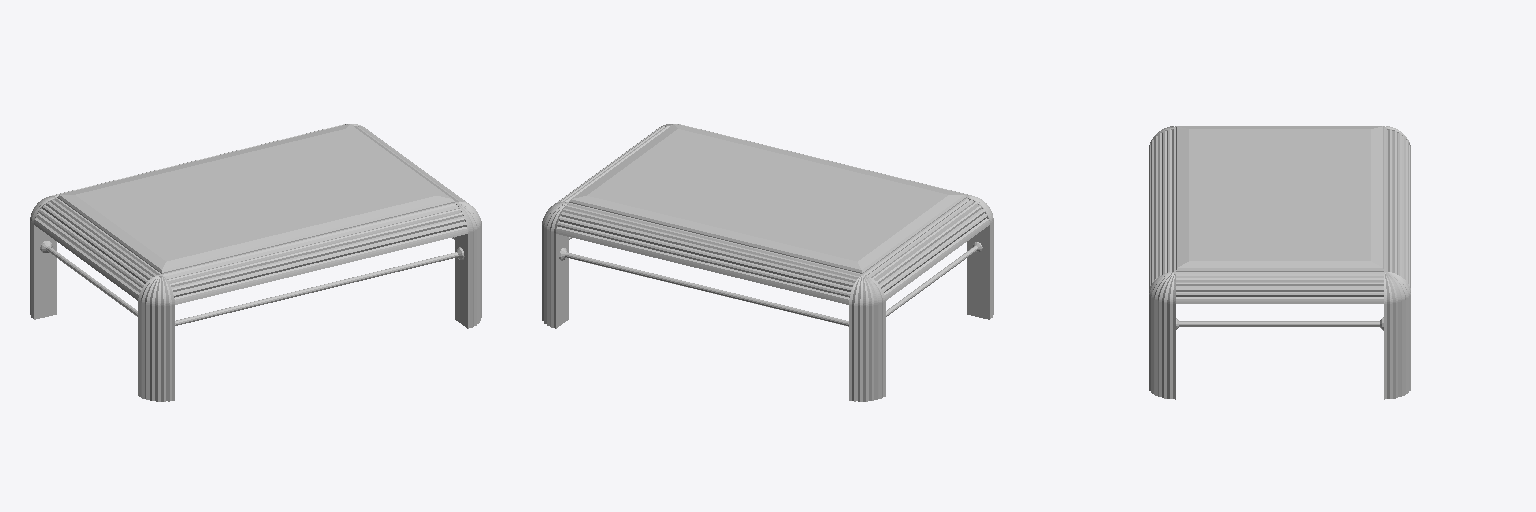
File: StylishDesk.obj
3 renders of one model, left to right at view 1: azimuth 30°, elevation 25°; view 2: azimuth 150°, elevation 25°; view 3: azimuth 270°, elevation 25°, orthographic.
Visible parts, largest first — view 1: Rectangle0, Arc04, Arc02, Line03, Line02, Line04, Cylinder04, Arc01, Cylinder02; view 2: Rectangle0, Arc03, Arc02, Line04, Line01, Line03, Cylinder03, Arc01, Cylinder02; view 3: Rectangle0, Arc01, Arc04, Arc03, Line01, Line02, Cylinder01.
Part boxes in pixels (bbox=[...]): Rectangle0: bbox=[57, 124, 454, 273]; Arc04: bbox=[162, 203, 467, 304]; Arc02: bbox=[34, 198, 160, 300]; Line03: bbox=[138, 274, 174, 401]; Line02: bbox=[455, 202, 481, 328]; Line04: bbox=[30, 196, 56, 319]; Cylinder04: bbox=[175, 247, 464, 325]; Arc01: bbox=[354, 126, 468, 203]; Cylinder02: bbox=[40, 241, 137, 316]; Rectangle0: bbox=[569, 124, 966, 273]; Arc03: bbox=[556, 203, 861, 304]; Arc02: bbox=[863, 198, 989, 300]; Line04: bbox=[849, 274, 885, 401]; Line01: bbox=[542, 202, 568, 328]; Line03: bbox=[967, 196, 993, 319]; Cylinder03: bbox=[559, 248, 848, 326]; Arc01: bbox=[555, 126, 669, 203]; Cylinder02: bbox=[886, 242, 982, 316]; Rectangle0: bbox=[1176, 126, 1383, 271]; Arc01: bbox=[1176, 272, 1383, 303]; Arc04: bbox=[1149, 129, 1175, 288]; Arc03: bbox=[1384, 129, 1410, 287]; Line01: bbox=[1384, 272, 1410, 399]; Line02: bbox=[1149, 272, 1175, 399]; Cylinder01: bbox=[1176, 317, 1383, 330].
Bounding box in the file's own units: 139 × 47.54 × 93.21.